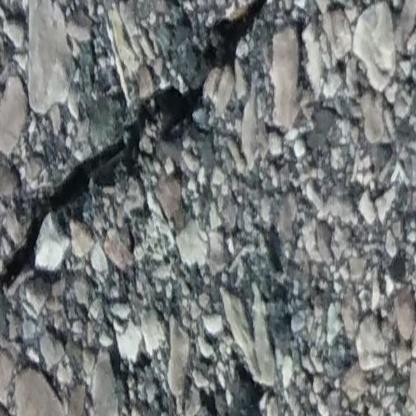Cracks: (0, 0, 286, 309)
